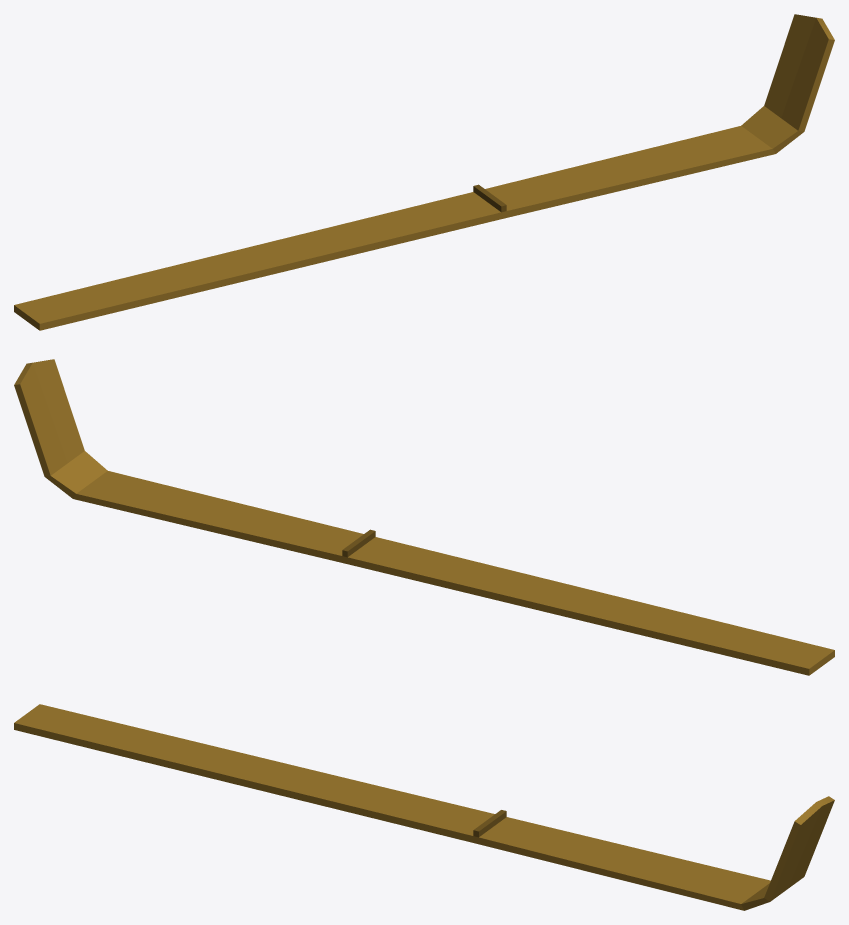
File: TT_Japanese_Spoon.fbx
The picture shows the model from 3 angles, top to bottom: view 1: azimuth 30°, elevation 25°; view 2: azimuth 150°, elevation 25°; view 3: azimuth 330°, elevation 25°; orthographic projection.
Visible parts, largest first — view 1: Japanese_spoon; view 2: Japanese_spoon; view 3: Japanese_spoon.
Boxes of the visible parts, <box> form: Japanese_spoon: <box>14,14,834,330</box>; Japanese_spoon: <box>14,359,834,675</box>; Japanese_spoon: <box>14,704,834,910</box>.
Bounding box in the file's own units: 16.41 × 2.19 × 1.22.
